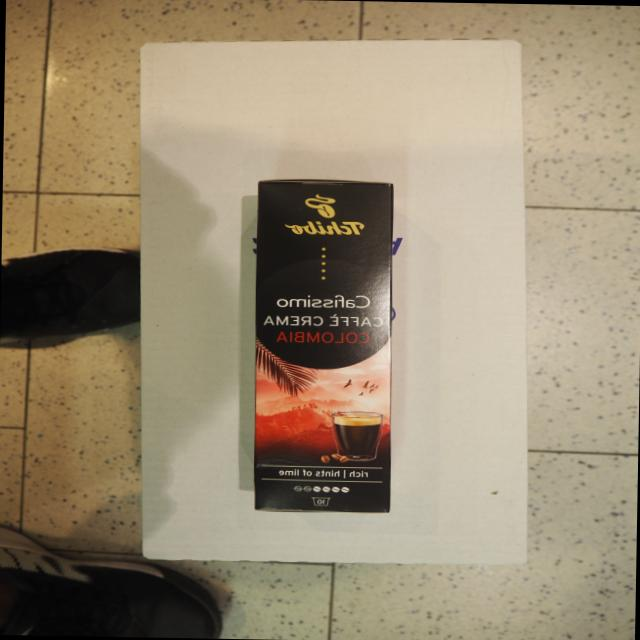Simo CC Colombia: (250, 176, 398, 515)
